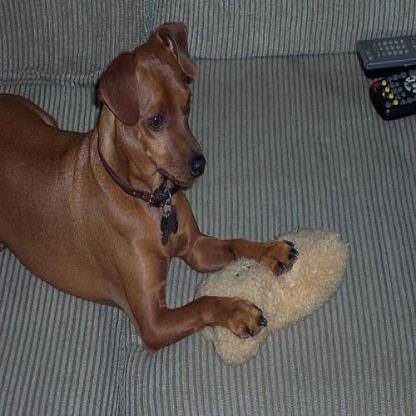miniature_pinscher: (0, 19, 300, 351)
